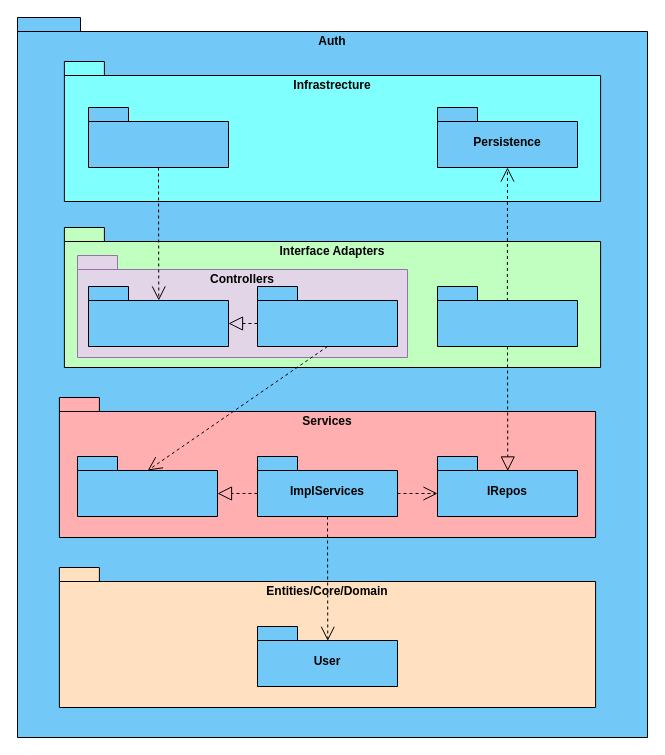
This 665x755 diagram has some shape labels left out. Each missing label, with the centre of its shape:
"IControllers" goes at (x=158, y=316).
"ImplControllers" goes at (x=327, y=316).
"IServices" goes at (x=147, y=486).
"Repos" goes at (x=507, y=316).
"Routes" goes at (x=158, y=137).
